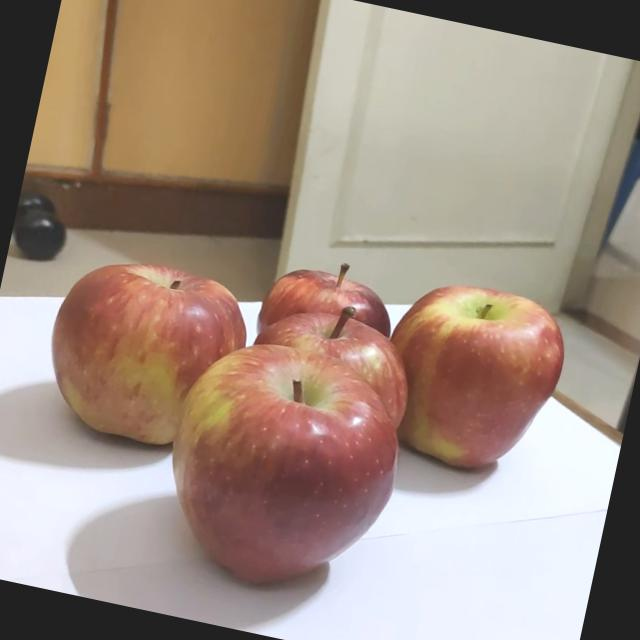apple: (172, 318, 458, 612), (42, 233, 274, 461), (382, 260, 598, 492), (258, 277, 454, 424), (264, 234, 424, 366)
